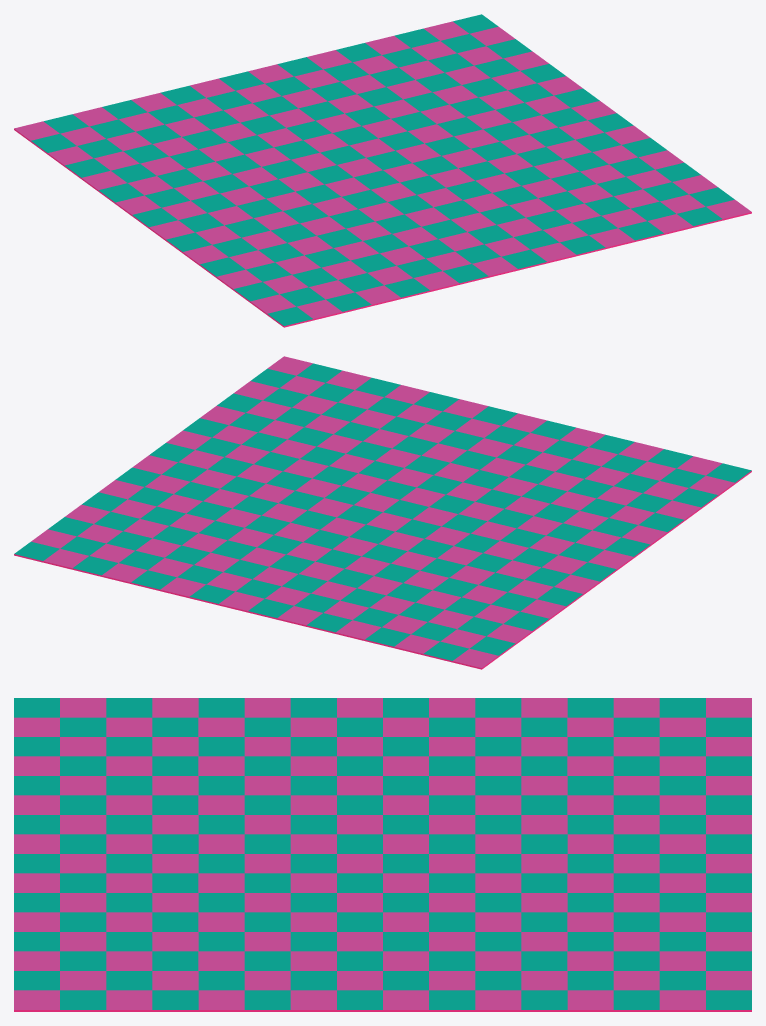
Rendered from baseLargeCheckered.glb.
3 views of the same model, one above another, from view 1: azimuth 30°, elevation 25°; view 2: azimuth 150°, elevation 25°; view 3: azimuth 270°, elevation 25° (orthographic). The views are drawn at different scales.
Visible parts, largest first — view 1: baseLight; view 2: baseLight; view 3: baseLight.
Part boxes in pixels (x1,y1,x2,y2): baseLight: (14, 14, 751, 327); baseLight: (14, 356, 751, 669); baseLight: (14, 698, 751, 1011).
Size of what is drawn, in the model's own units: 16 by 0.05 by 16.
Materials: 2 (2 with a texture image).
